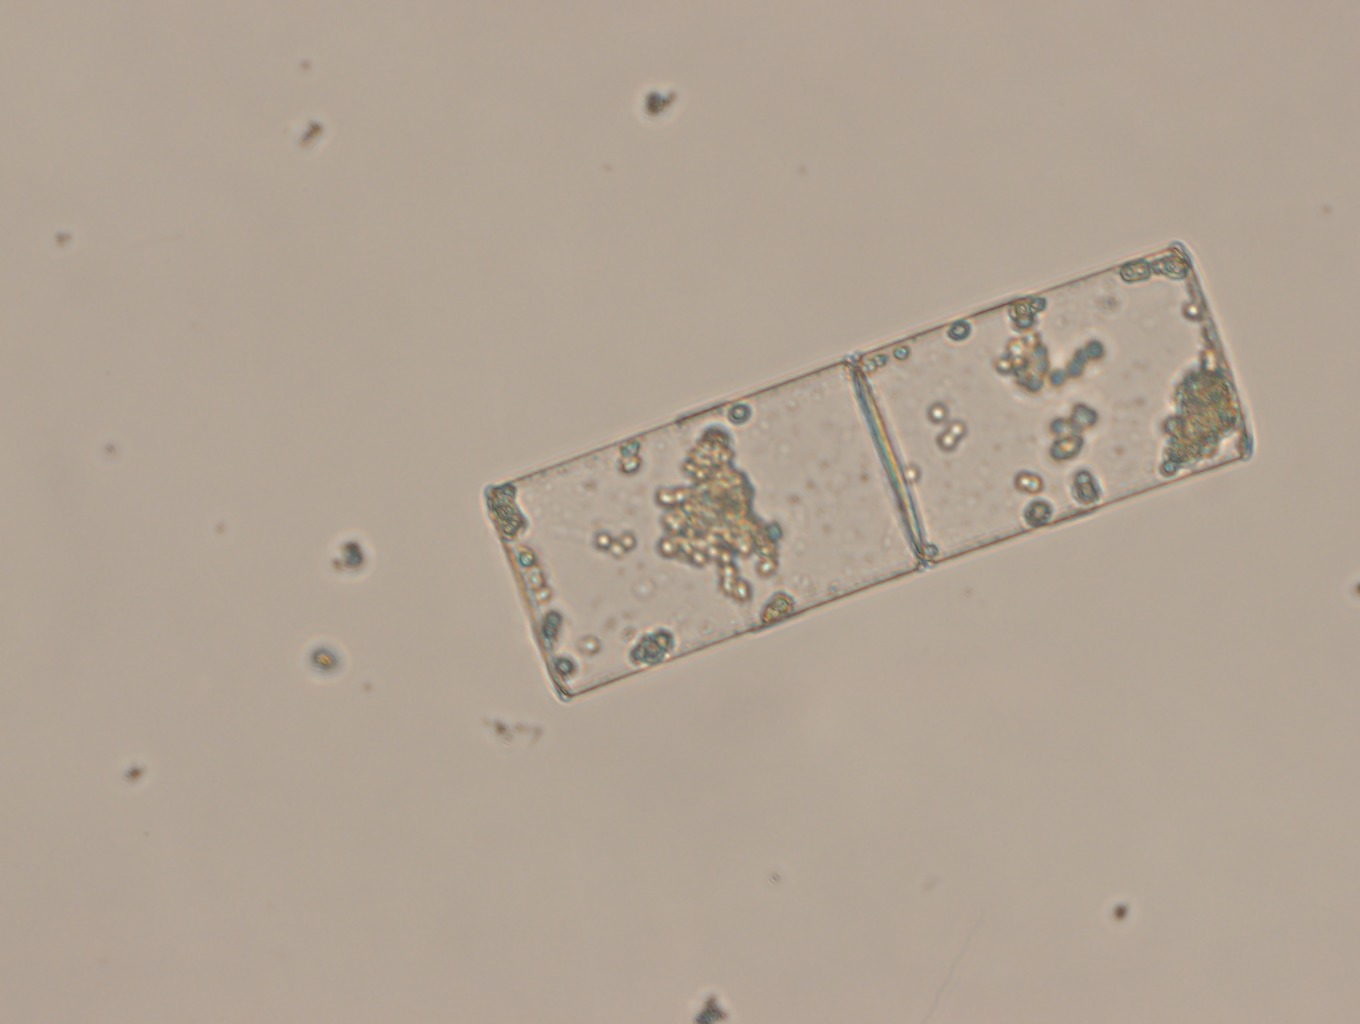guinardia flaccida: (483, 238, 1259, 708)
